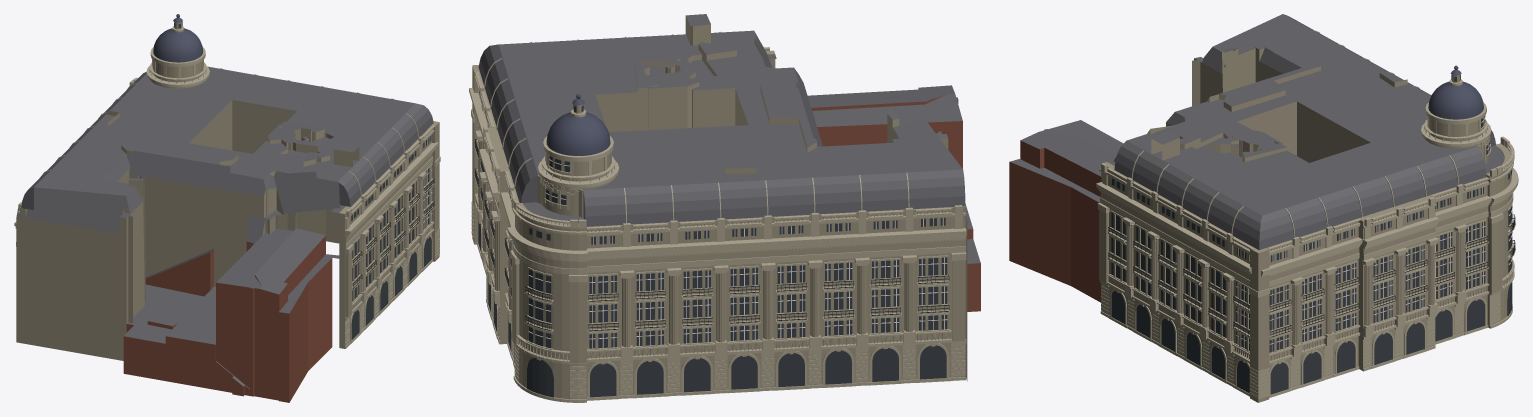
File: hirschgebouw.glb
The picture shows the model from 3 angles, left to right: view 1: azimuth 30°, elevation 25°; view 2: azimuth 150°, elevation 25°; view 3: azimuth 270°, elevation 25°; orthographic projection. The views are drawn at different scales.
Visible parts, largest first — view 1: hirschgebouw; view 2: hirschgebouw; view 3: hirschgebouw.
Boxes of the visible parts, bbox=[...] form: hirschgebouw: bbox=[14, 14, 440, 402]; hirschgebouw: bbox=[469, 14, 980, 402]; hirschgebouw: bbox=[1009, 14, 1518, 402].
Bounding box in the file's own units: 73.98 × 38.17 × 72.23.
